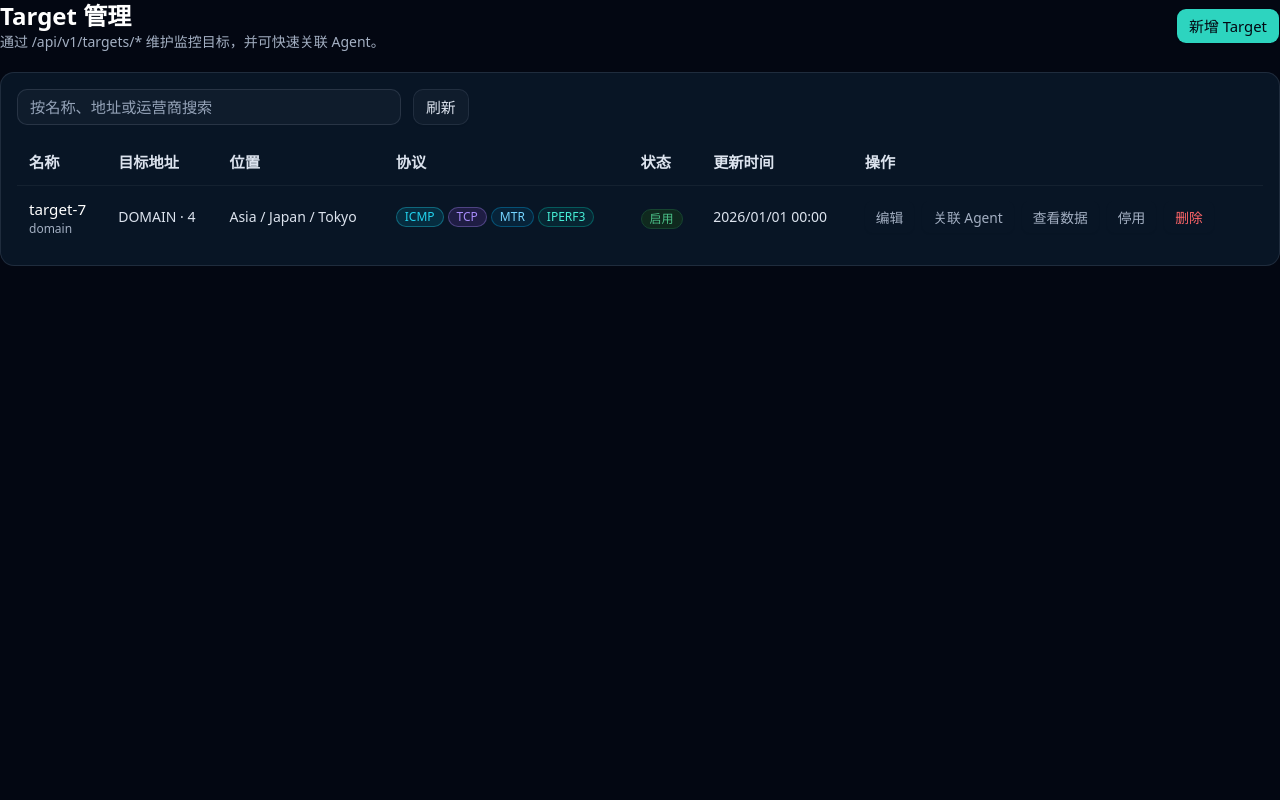
Scenario: TargetsPage › shows human-readable IP version labels in the target form select
Click the button "新增 Target" at (1228, 26), box [1176,8,1279,44]
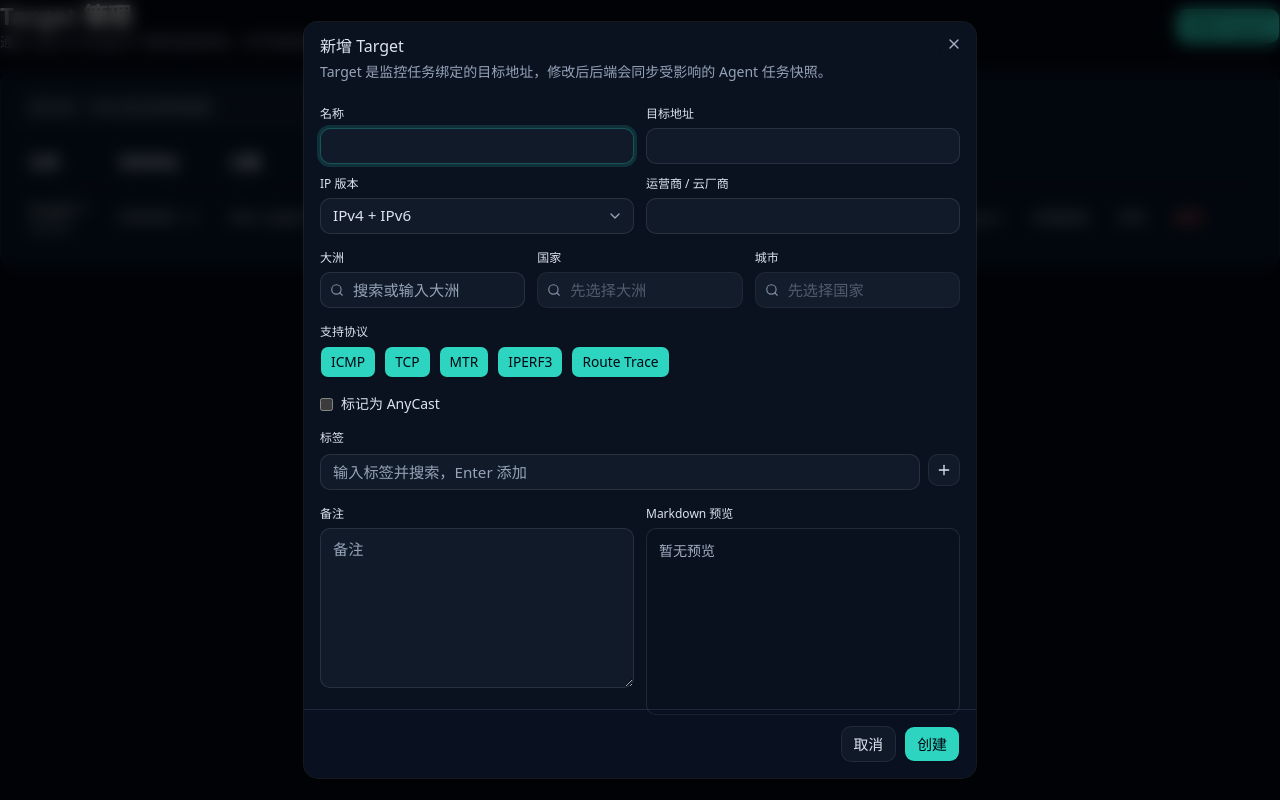
Expected: the dropdown named "IP 版本" shows "IPv4 + IPv6"
Click the dropdown named "IP 版本" at (372, 215), box [320,198,634,234]
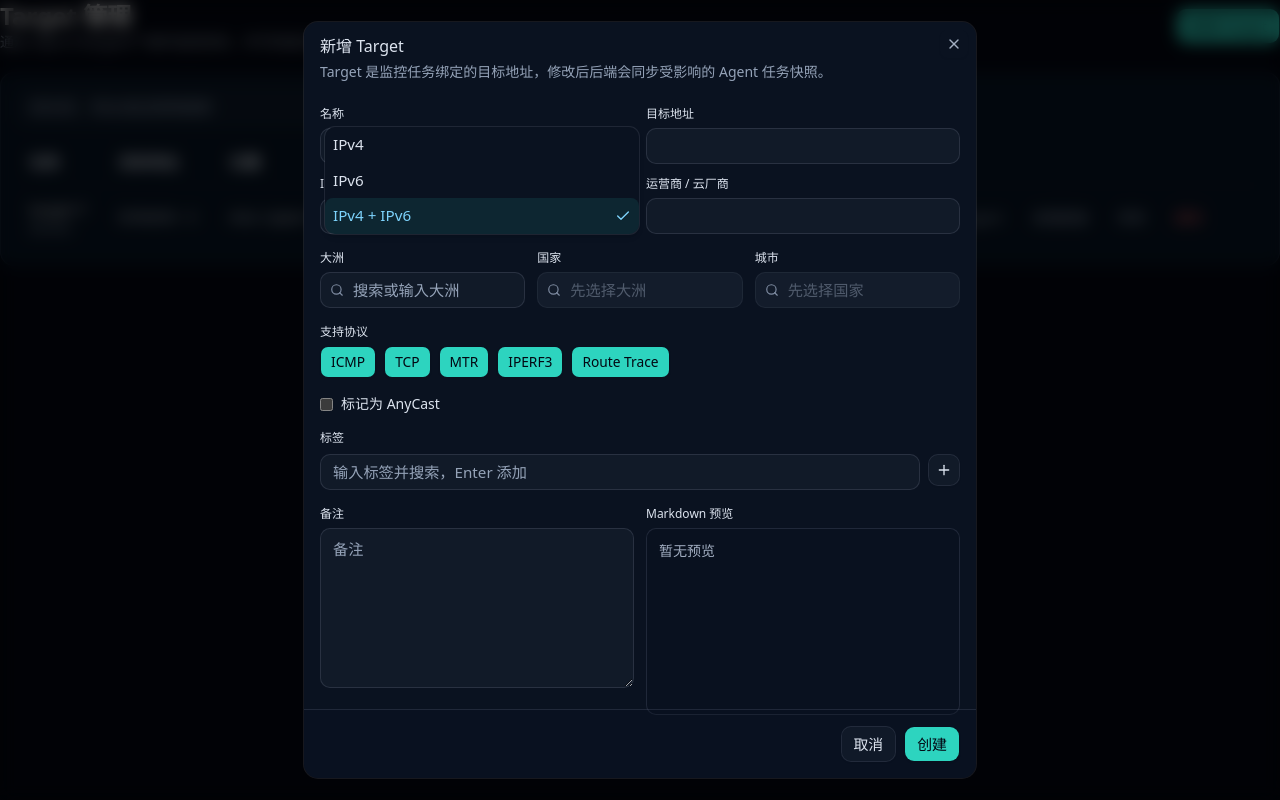
Click the option "IPv4" at (348, 144), box [333,134,364,154]
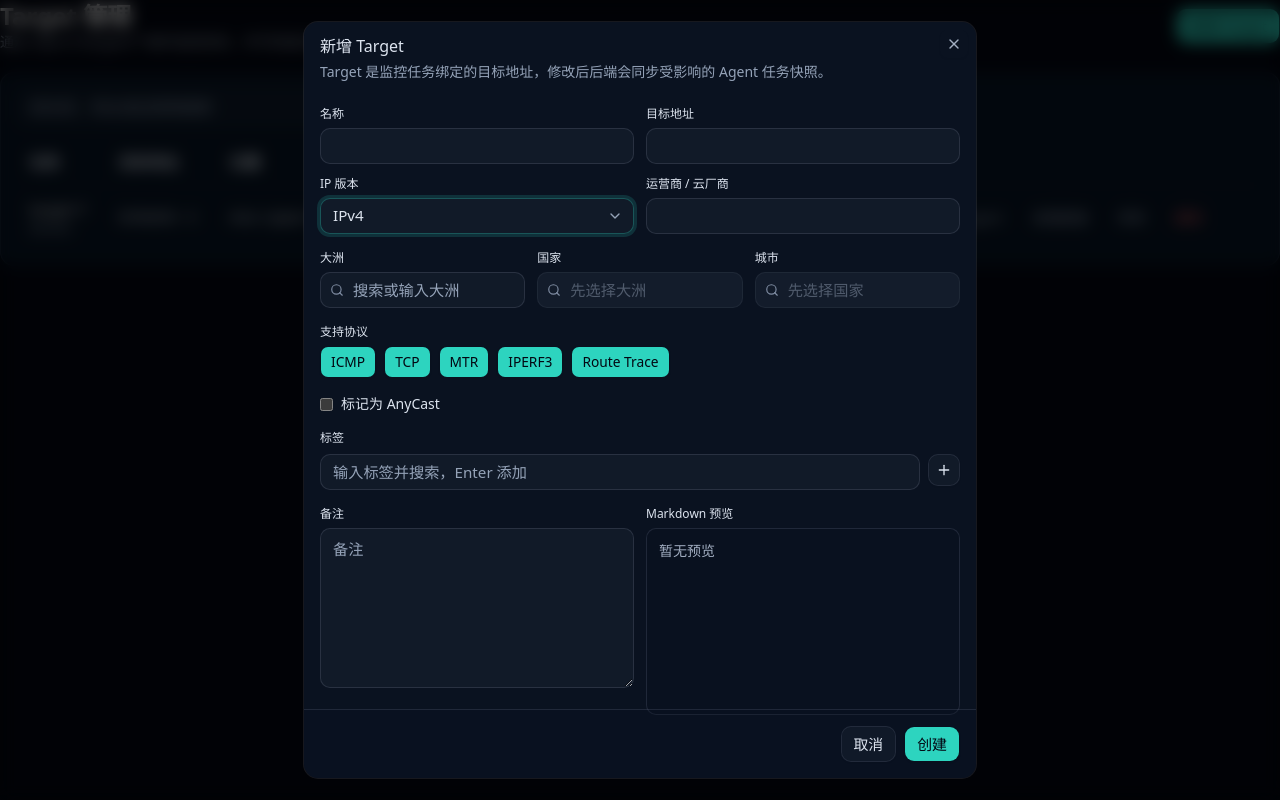
Expected: the dropdown named "IP 版本" does not show "4", [320,198,634,234]
Expected: the dropdown named "IP 版本" shows "IPv4", [320,198,634,234]
